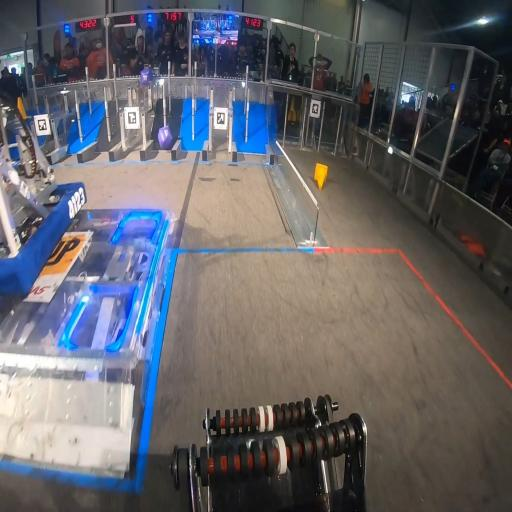robot: (0, 98, 88, 295)
